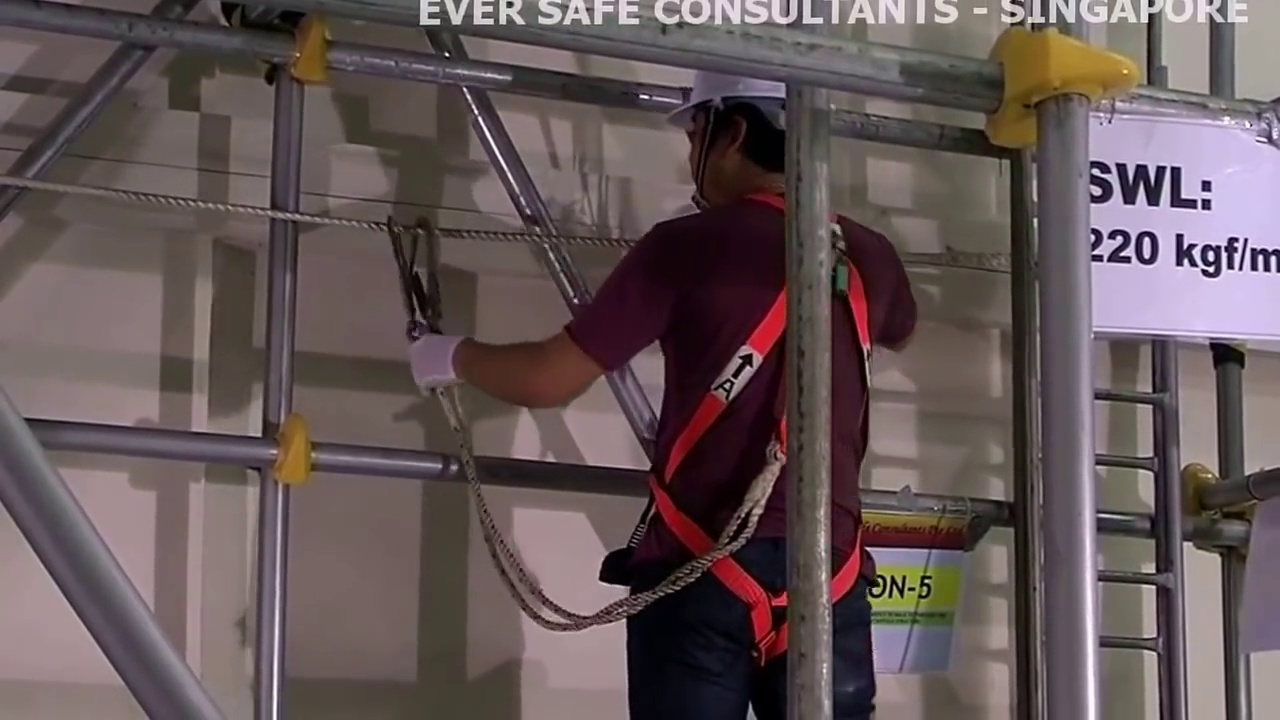harness: (668, 233, 865, 637)
helmet: (675, 78, 783, 100)
hook: (385, 209, 453, 333)
leash: (423, 400, 624, 651)
